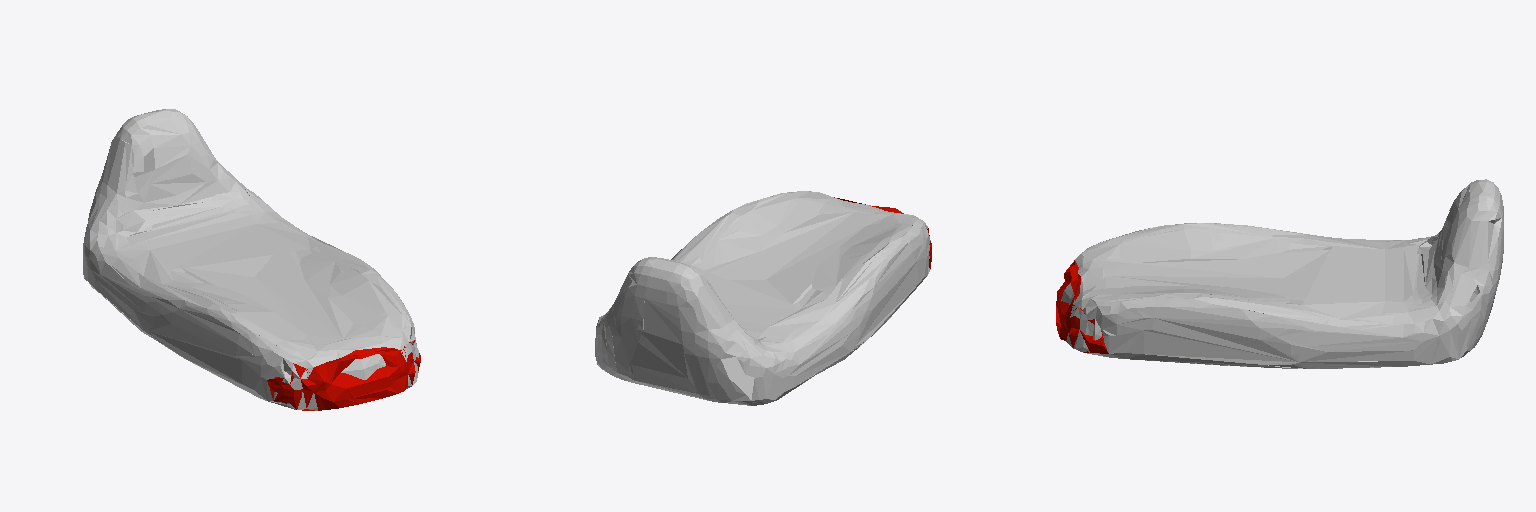
The model's file is Nao6_Right_Leg_Foot.obj.
3 renders of one model, left to right at view 1: azimuth 30°, elevation 25°; view 2: azimuth 150°, elevation 25°; view 3: azimuth 270°, elevation 25°, orthographic.
Parts seen in each view (by area): view 1: Nao6_Right_Leg_Foot; view 2: Nao6_Right_Leg_Foot; view 3: Nao6_Right_Leg_Foot.
Boxes of the visible parts, x1,y1,x2,y2 form: Nao6_Right_Leg_Foot: [83, 109, 420, 410]; Nao6_Right_Leg_Foot: [595, 191, 931, 405]; Nao6_Right_Leg_Foot: [1056, 179, 1503, 368].
Bounding box in the file's own units: 0.4639 × 0.3124 × 0.9215.